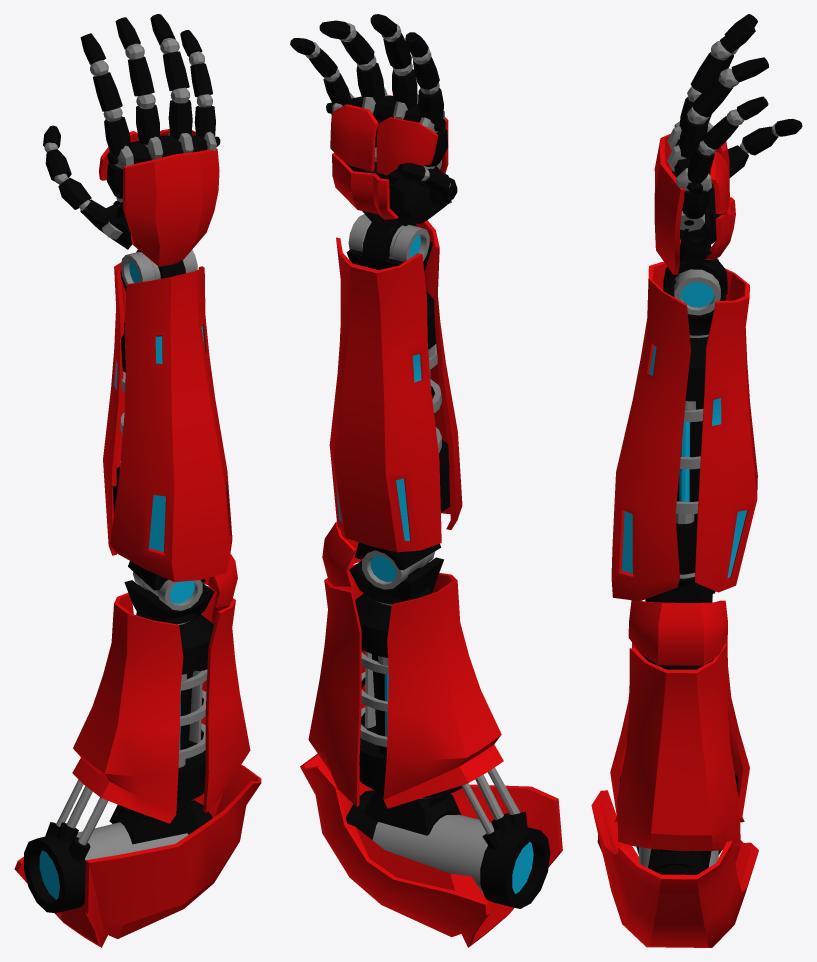
The model's file is Cybernetic_Arms.fbx.
3 views of the same model, side by side, from view 1: azimuth 30°, elevation 25°; view 2: azimuth 150°, elevation 25°; view 3: azimuth 270°, elevation 25° (orthographic). The views are drawn at different scales.
Parts seen in each view (by area): view 1: Armour_Covers, Upper_Arm, Hand, Lower_Arm; view 2: Armour_Covers, Upper_Arm, Hand, Lower_Arm; view 3: Armour_Covers, Hand, Lower_Arm, Upper_Arm.
Part boxes in pixels (box(x1,y1,x2,y2)): Armour_Covers: box(14, 129, 261, 947); Upper_Arm: box(24, 572, 214, 913); Hand: box(43, 14, 220, 278); Lower_Arm: box(112, 250, 205, 590); Armour_Covers: box(300, 95, 562, 947); Upper_Arm: box(346, 550, 550, 908); Hand: box(290, 14, 457, 261); Lower_Arm: box(346, 214, 450, 570); Armour_Covers: box(591, 134, 758, 947); Hand: box(663, 14, 802, 294); Lower_Arm: box(645, 258, 725, 602); Upper_Arm: box(620, 598, 737, 874).
Size of the model in its own units: 23.19 by 93.45 by 19.07.
